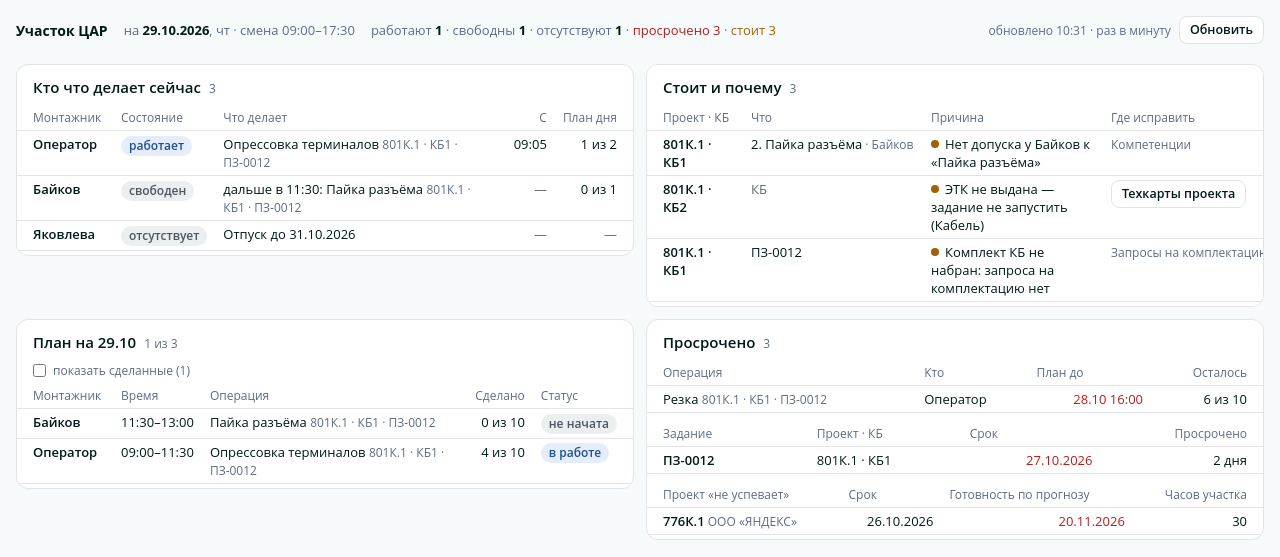
Test: folds the operations done today behind a switch
The width and height of the screenshot is (1280, 557).
expect the text "1 из 3" is shown: met, box [144,335,178,352]
Click the checkbox labelled "показать сделанные (1)".
click(40, 370)  # box [33,364,46,377]
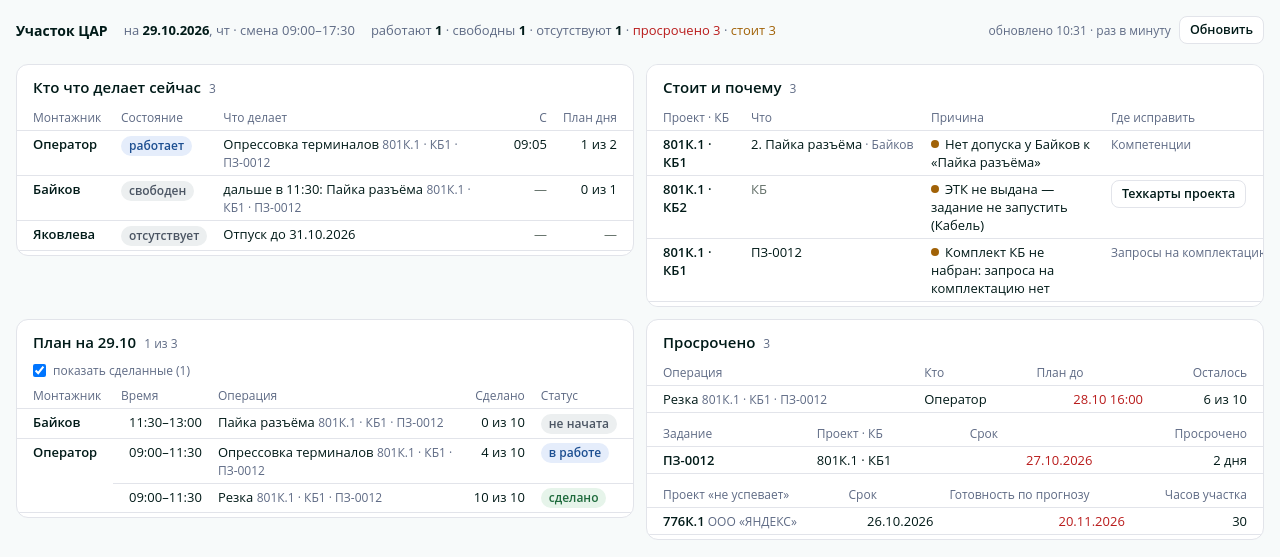
expect the text "Резка" below "в работе" is shown: met, box [218,488,253,506]
